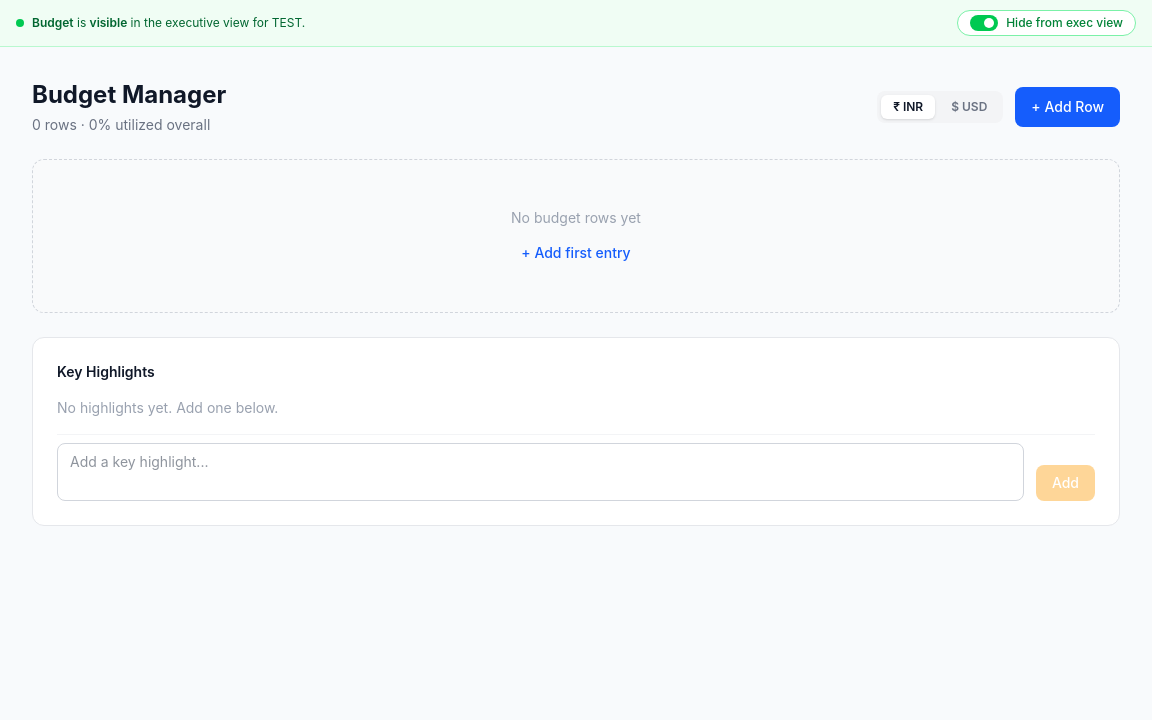
BudgetEditor › T-34.02: "+ Add Row" button opens modal
The image size is (1152, 720).
Click the button "+ Add Row": (1068, 107) [1015,87,1120,127]
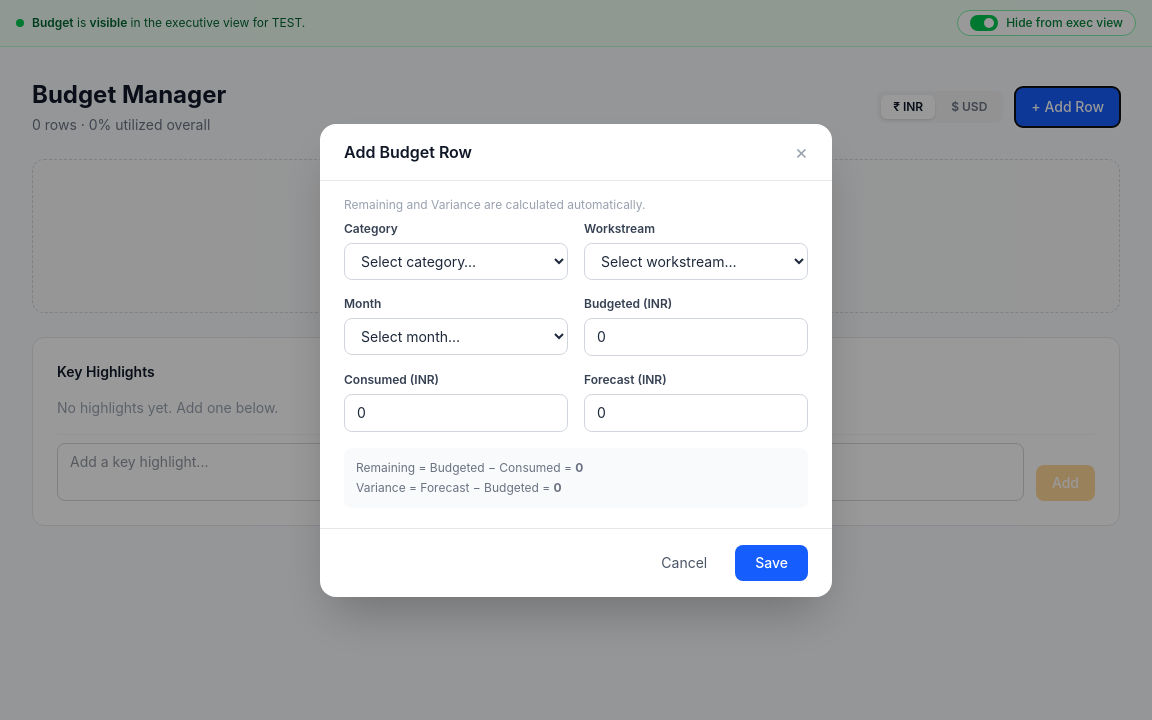
Now the heading "Add Budget Row" is shown, box [344,140,472,164]
